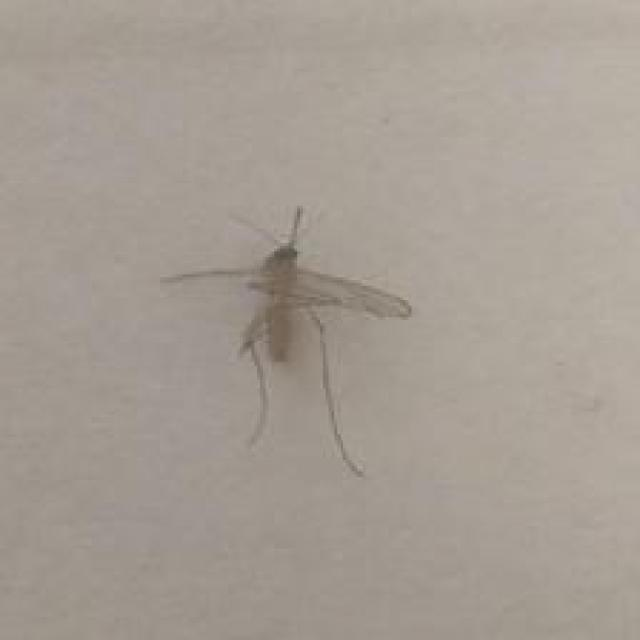Culex: (158, 203, 413, 477)
